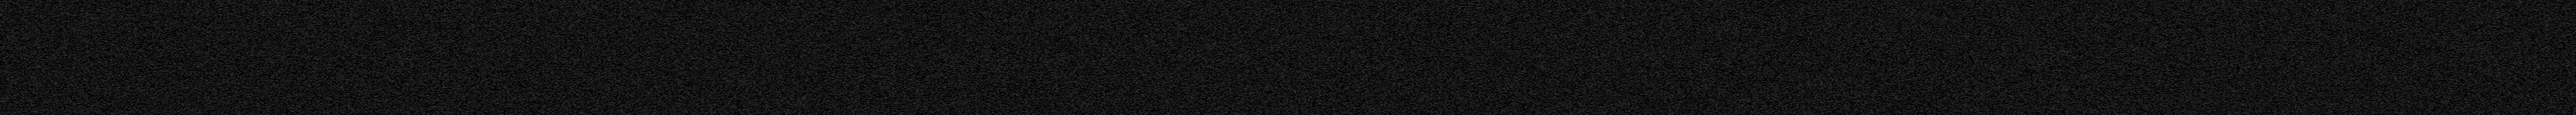wv_usb: (1429, 0, 1433, 72), (1431, 99, 1433, 115), (1431, 76, 1433, 90), (1431, 94, 1433, 99), (1431, 72, 1433, 76), (1431, 92, 1433, 94)
wv_wbfm: (1850, 0, 1906, 112), (2313, 0, 2348, 115), (1858, 113, 1899, 115)
